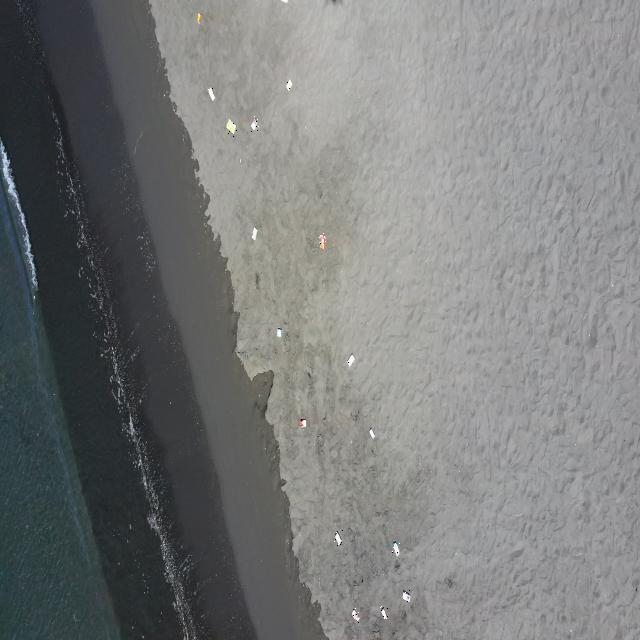Garbage: (226, 119, 236, 134), (249, 117, 258, 131), (319, 232, 326, 249), (402, 590, 411, 602), (352, 608, 359, 622), (380, 606, 387, 619), (284, 79, 291, 91), (207, 87, 213, 100), (392, 540, 397, 555), (347, 355, 353, 366), (251, 227, 256, 240), (335, 531, 340, 544), (299, 418, 306, 427), (368, 427, 374, 437), (196, 12, 200, 24), (276, 327, 281, 336), (280, 0, 287, 3)
